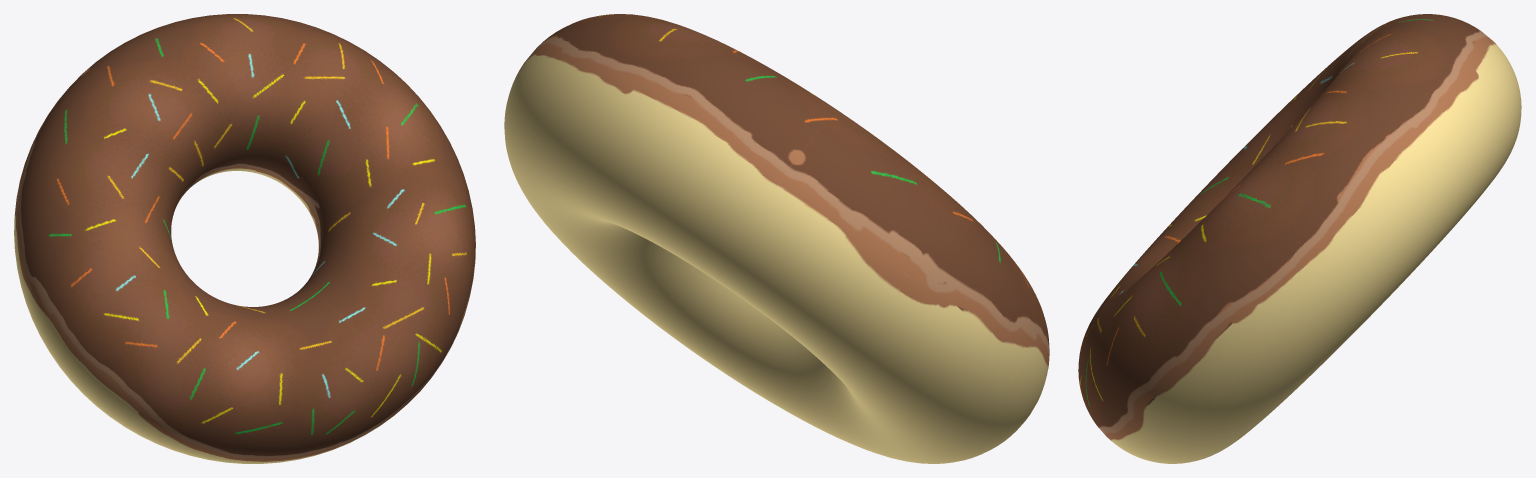
File: donut_01_fbx.fbx
3 renders of one model, left to right at view 1: azimuth 30°, elevation 25°; view 2: azimuth 150°, elevation 25°; view 3: azimuth 270°, elevation 25°, orthographic. The views are drawn at different scales.
Visible parts, largest first — view 1: root; view 2: root; view 3: root.
Part boxes in pixels (x1,y1,x2,y2): root: (14, 14, 475, 463); root: (504, 14, 1049, 463); root: (1078, 14, 1521, 463).
Bounding box in the file's own units: 470 × 401 × 385.
1 material, 1 textured.
